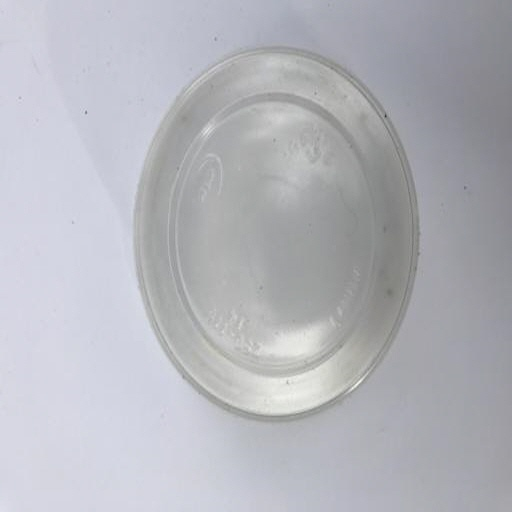Plastic_5: (127, 45, 421, 418)
